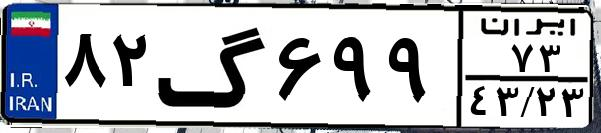2: (110, 28, 156, 98), (535, 70, 560, 125)
3: (560, 70, 590, 125), (537, 27, 568, 80), (495, 70, 520, 125)
4: (470, 70, 495, 125)
6: (270, 28, 330, 110)
7: (508, 27, 537, 80)
8: (57, 26, 110, 100)
9: (385, 28, 445, 110), (330, 28, 385, 110)
گ: (156, 12, 270, 120)
